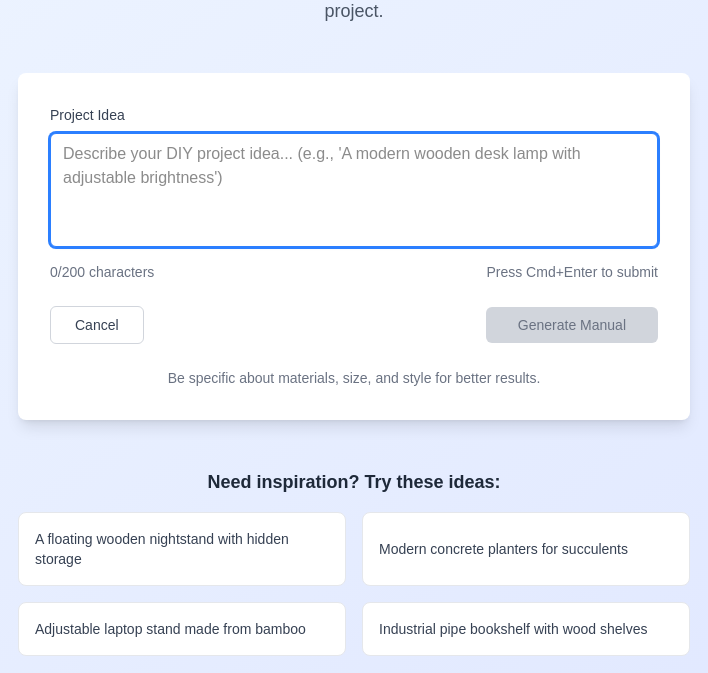
Test: TextInput Component › Example Ideas › should populate textarea when example idea is clicked
The width and height of the screenshot is (708, 673).
(page scrolled)
Click the button "A floating wooden nightstand with hidden storage". click: {"x": 182, "y": 549}
box: [18,512,346,586]
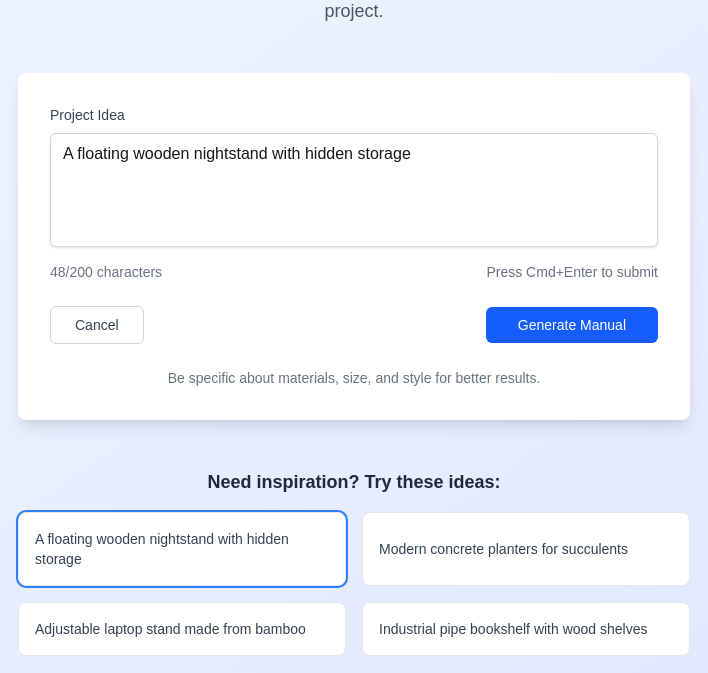
Expected: the text box labelled "Project Idea" holds "A floating wooden nightstand with hidden storage", [50,133,658,247]
